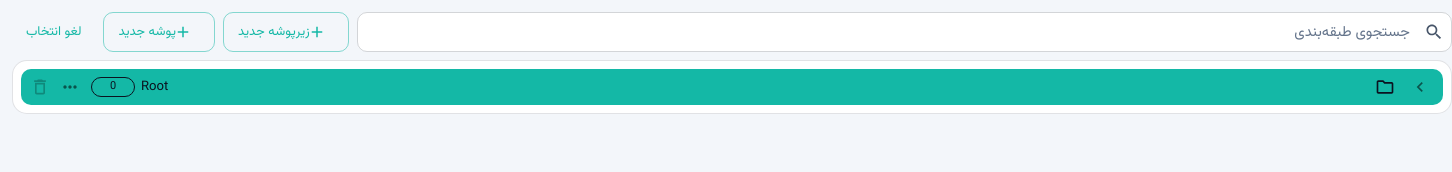
Scenario: ClassificationTree › filters by search query
Step 1. Type "Child" into the field → coordinates (897, 32), box [371,13,1424,51]
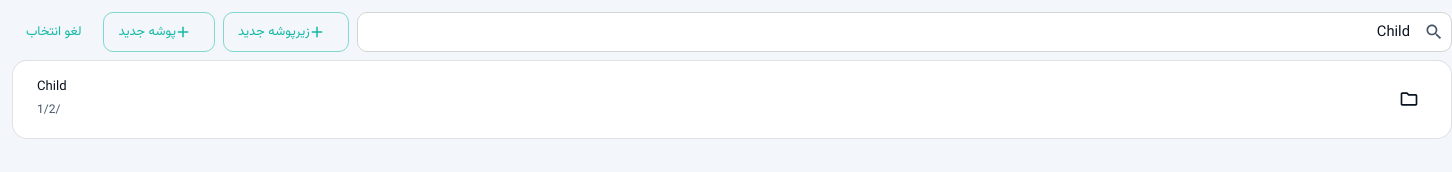
Now the text "Child" is shown, box [37,77,66,97]
